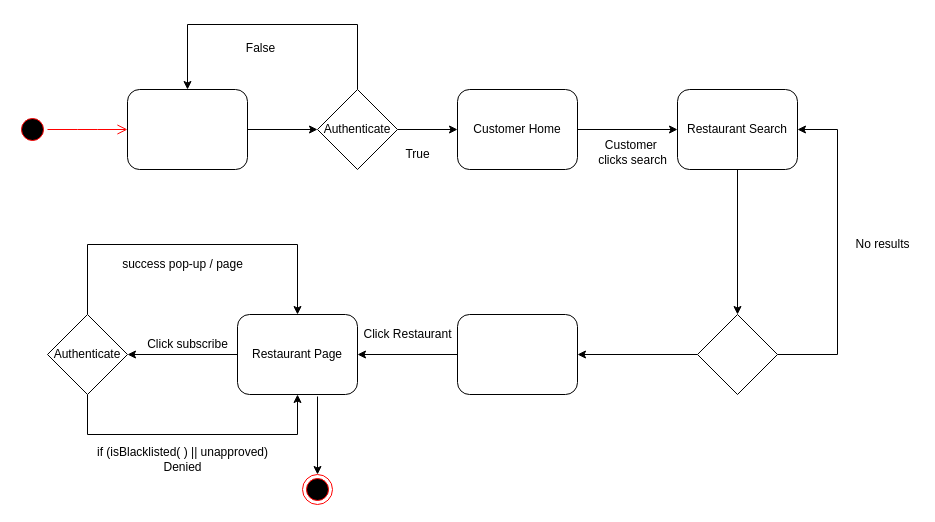
Image size: 935x522. Some labels were removed from this diagram. The shapes that lost their labels are listed below. From the top down, each one's centre as x and y in pixels, then its label:
At point (187, 129): "User Login".
At point (517, 354): "Display Results".
At point (737, 354): "Check Restaurant Database".
